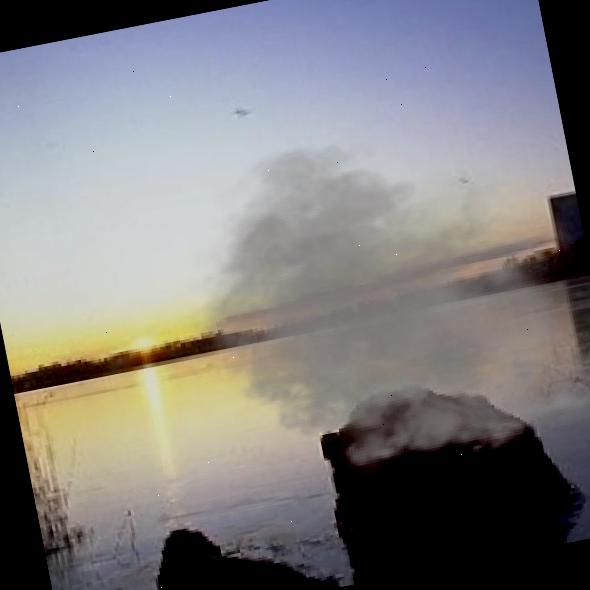smoke: (144, 84, 590, 523)
